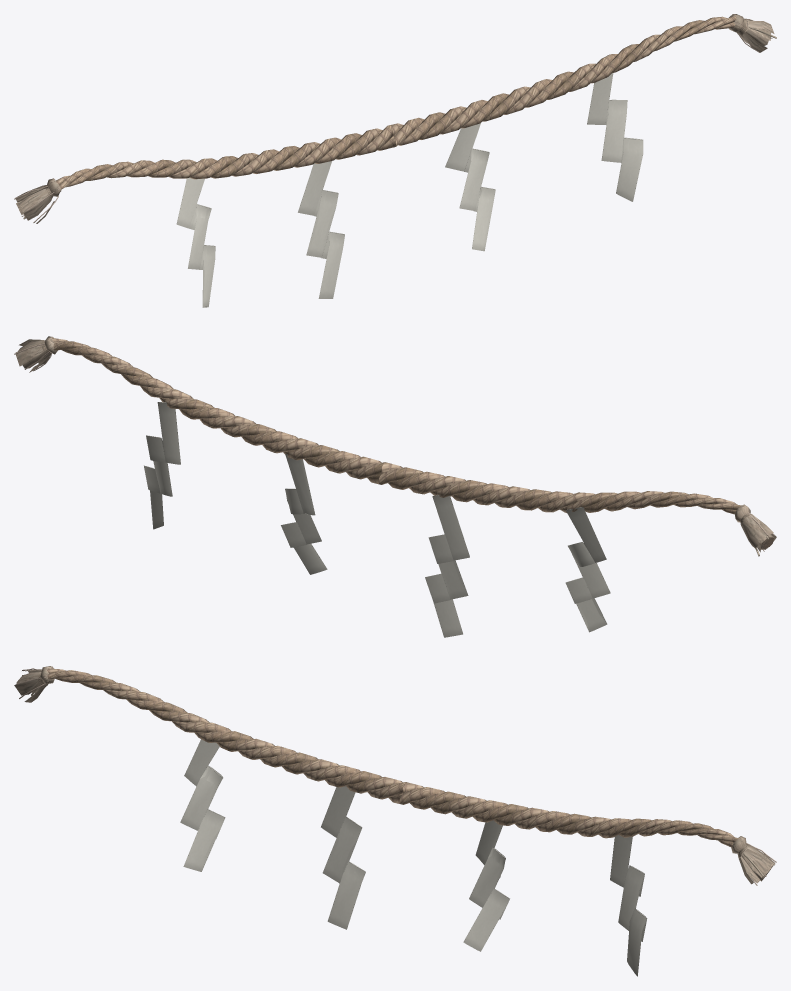
The model's file is Torii_Accessory_Shimenawa1.fbx.
3 views of the same model, one above another, from view 1: azimuth 30°, elevation 25°; view 2: azimuth 150°, elevation 25°; view 3: azimuth 330°, elevation 25° (orthographic).
Parts seen in each view (by area): view 1: Torii_access_shimenawa1; view 2: Torii_access_shimenawa1; view 3: Torii_access_shimenawa1.
Part boxes in pixels (x1,y1,x2,y2): Torii_access_shimenawa1: (14, 14, 776, 307); Torii_access_shimenawa1: (14, 336, 776, 637); Torii_access_shimenawa1: (14, 666, 776, 976).
Size of the model in its own units: 2.96 by 0.7436 by 0.1675.
